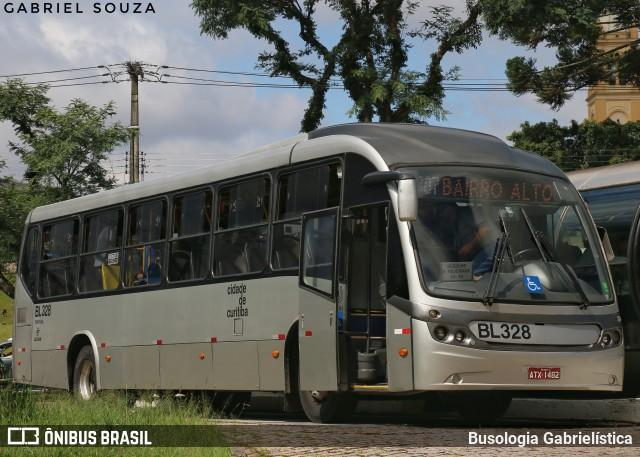BAIRRO ALTO: (438, 174, 555, 201)
